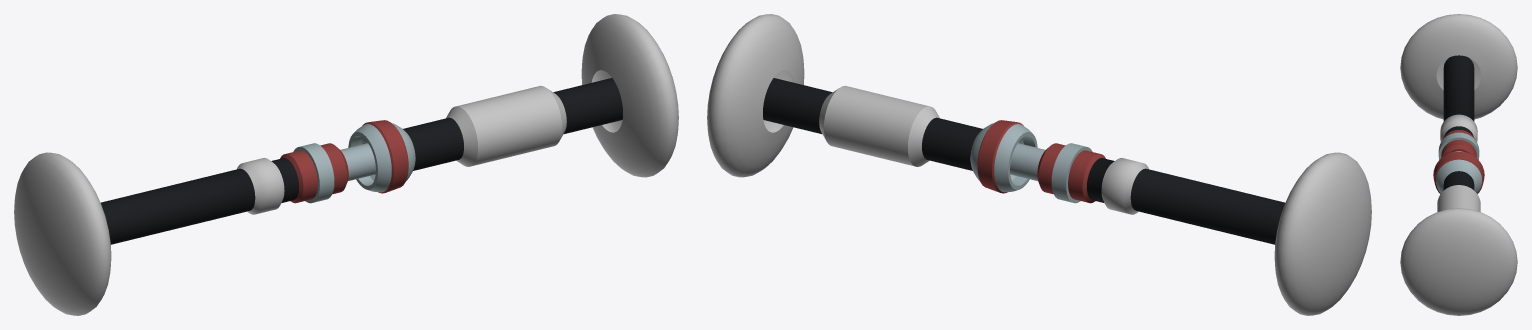
3 views of the same model, side by side, from view 1: azimuth 30°, elevation 25°; view 2: azimuth 150°, elevation 25°; view 3: azimuth 270°, elevation 25° (orthographic). The views are drawn at different scales.
Parts seen in each view (by area): view 1: AT; view 2: AT; view 3: AT.
Boxes of the visible parts, bbox=[...] form: AT: bbox=[14, 14, 678, 315]; AT: bbox=[707, 14, 1371, 315]; AT: bbox=[1400, 14, 1517, 315].
Size of the model in its own units: 1165 by 273 by 273.
